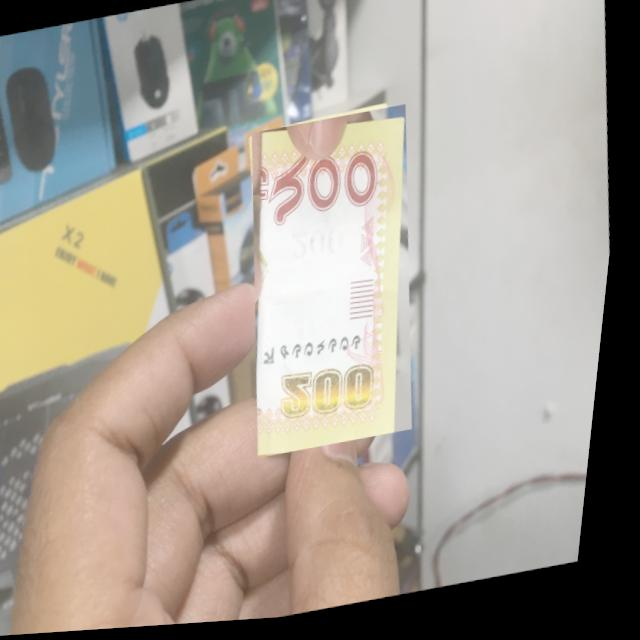Taka: (228, 107, 448, 464)
